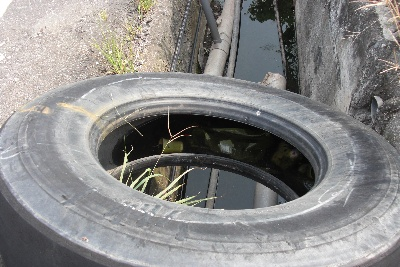tire: (1, 70, 400, 266)
